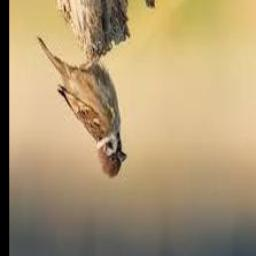Sparrow: (37, 36, 126, 178)
